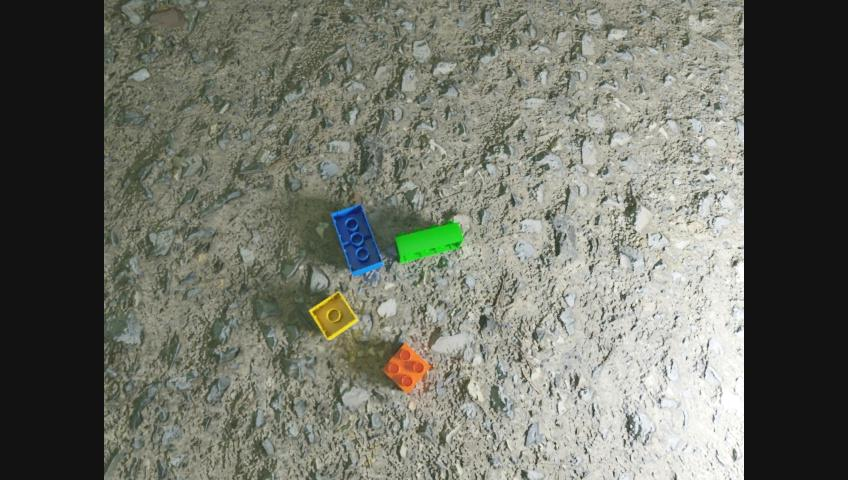2x2_orange: (382, 342, 429, 393)
2x2_yellow: (310, 291, 357, 339)
4x2_blue: (331, 203, 382, 276)
4x2_green: (395, 219, 462, 262)
